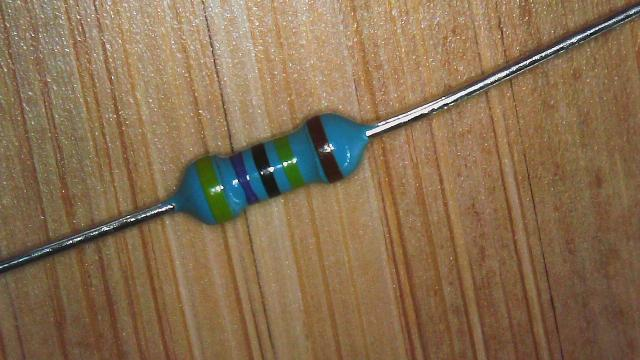black: (250, 143, 280, 197)
brown: (306, 116, 342, 182)
resistor: (164, 112, 382, 232)
violet: (230, 153, 258, 204)
yellow: (196, 156, 233, 222), (273, 136, 304, 188)
